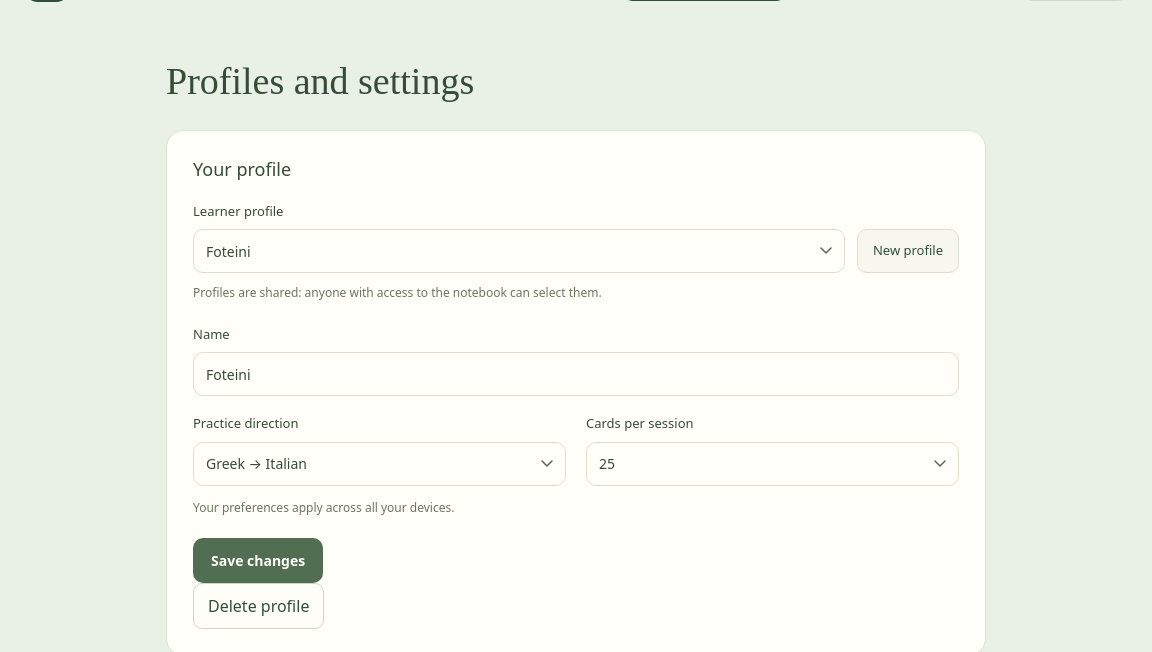
Scenario: failed profile deletion keeps confirmation open for retry
The image size is (1152, 652).
Click the button "Delete profile": (259, 606) x1=193 y1=583 x2=324 y2=629
(page scrolled)
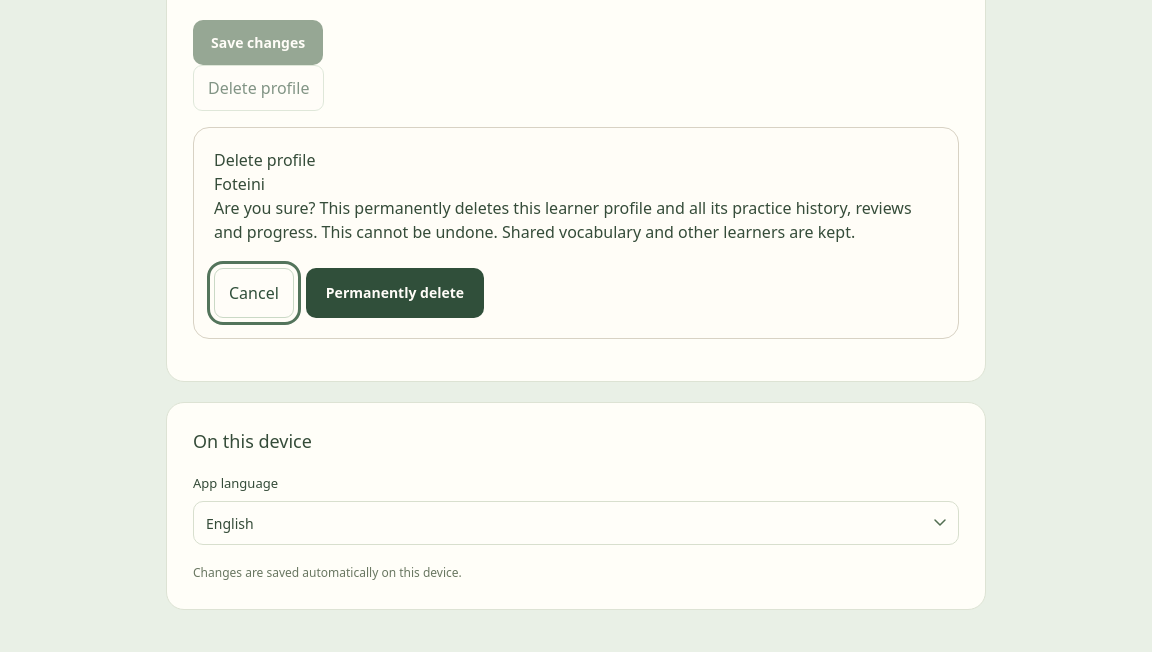
Click the button "Permanently delete": (395, 293) x1=306 y1=268 x2=484 y2=318
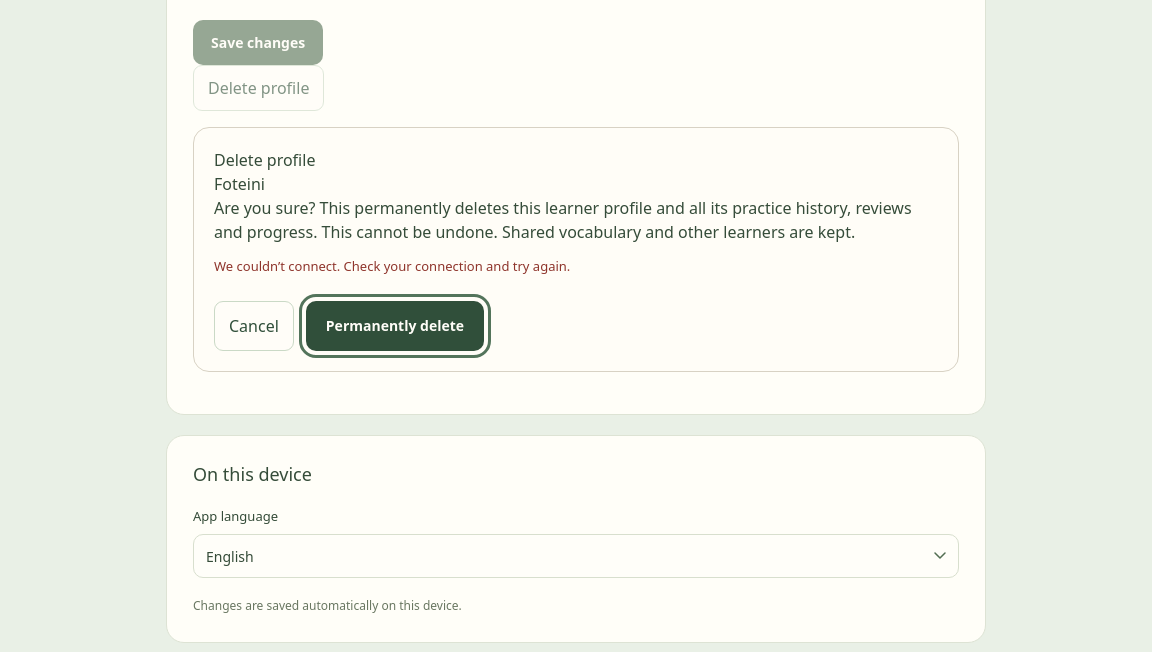
Expected: the dialog is shown, x1=193 y1=127 x2=959 y2=372
Expected: the message "We couldn’t connect. Check your connection and try again." is shown, x1=214 y1=257 x2=570 y2=275
Click the button "Permanently delete": (395, 326) x1=306 y1=301 x2=484 y2=351
(page scrolled)
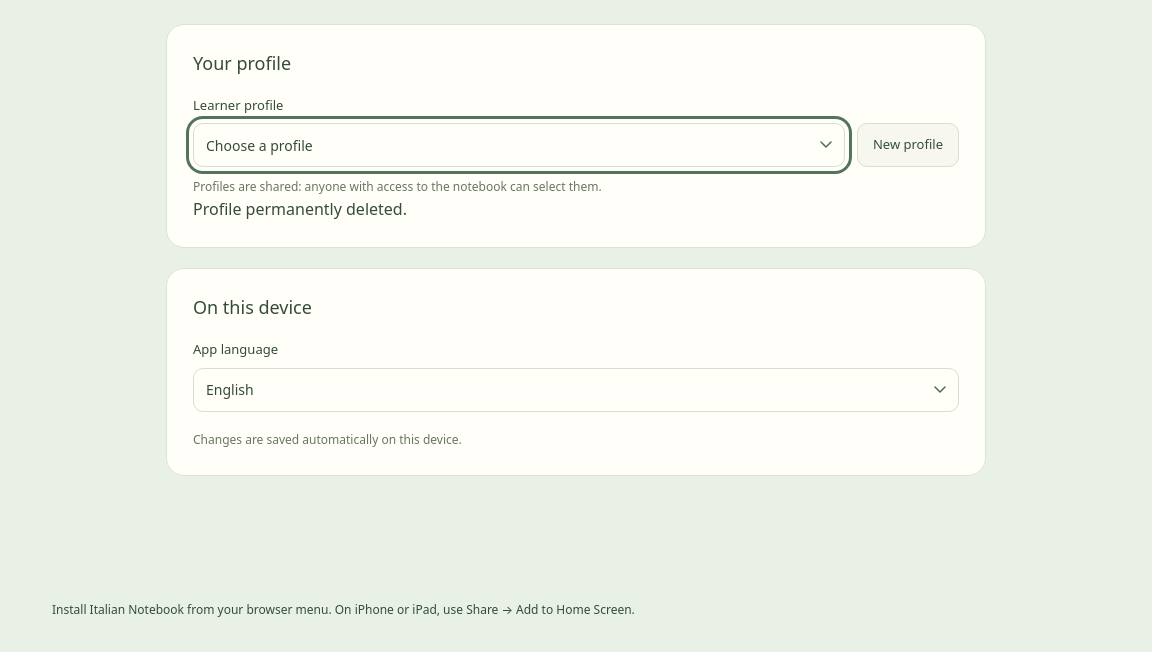
Expected: the text "Profile permanently deleted." is shown, x1=193 y1=198 x2=407 y2=220
